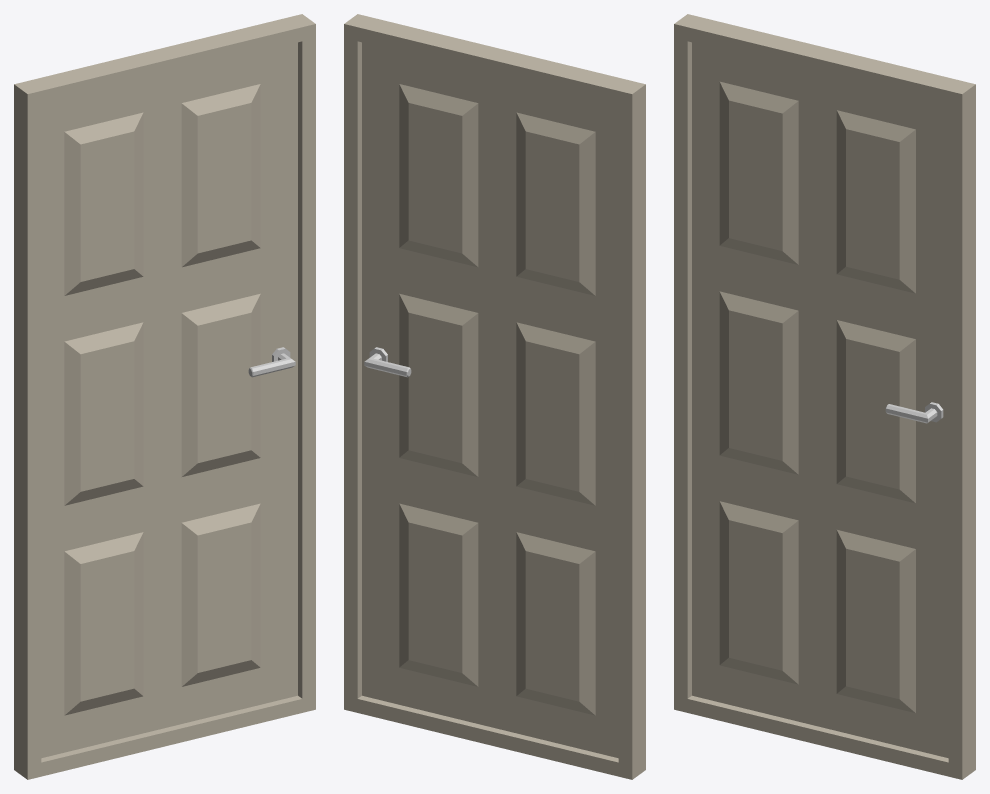
Rendered from Mesh_Door_A02.fbx.
3 views of the same model, side by side, from view 1: azimuth 30°, elevation 25°; view 2: azimuth 150°, elevation 25°; view 3: azimuth 330°, elevation 25° (orthographic).
Parts seen in each view (by area): view 1: Mesh_Door_A02; view 2: Mesh_Door_A02; view 3: Mesh_Door_A02.
Part boxes in pixels (left/top/right/bottom): Mesh_Door_A02: left=14, top=14, right=315, bottom=779; Mesh_Door_A02: left=344, top=14, right=645, bottom=779; Mesh_Door_A02: left=674, top=14, right=975, bottom=779.
Bounding box in the file's own units: 0.9 × 2.05 × 0.1482.
